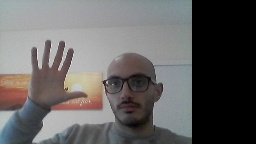Mano_aperta: (25, 37, 90, 110)
